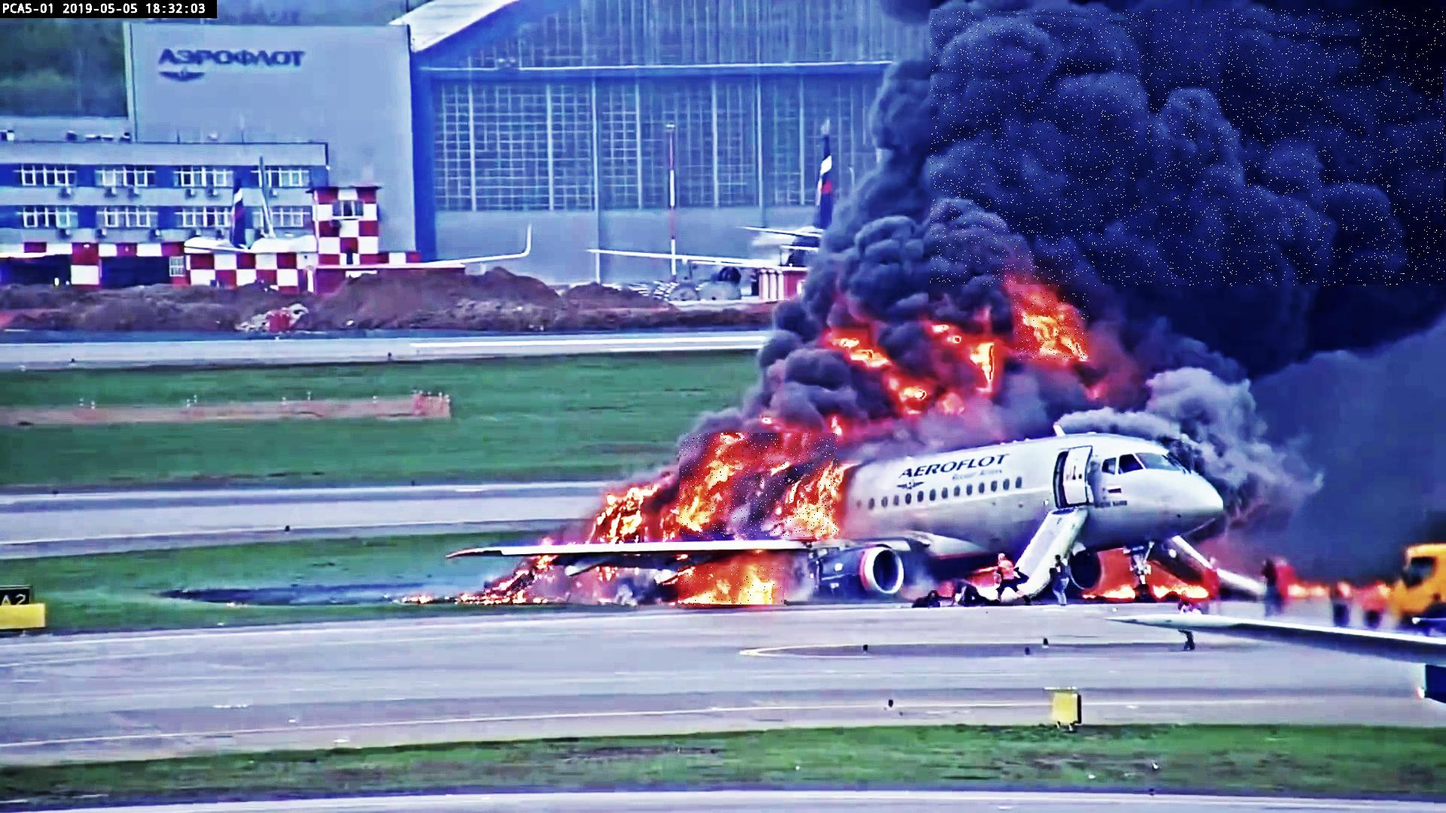fire: (680, 434, 838, 539), (1015, 292, 1088, 360), (678, 566, 788, 607)
smoke: (931, 10, 1446, 287)
